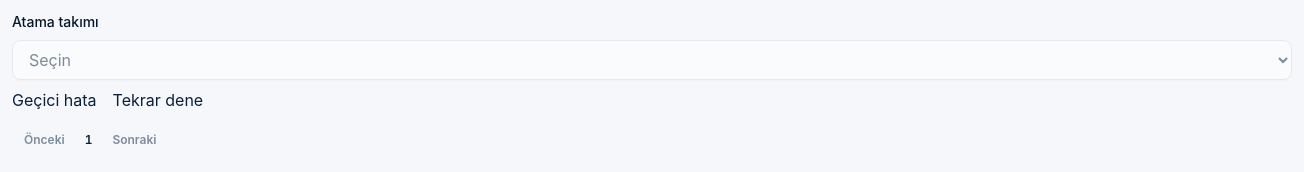
Test case: bounded assignment options › disables failed options, supports retry and shows an empty page explicitly
expect the dropdown is disabled: met, box [12,40,1292,80]
expect the message shows "Geçici hata": met, box [12,90,96,110]
Click the button "Tekrar dene" at {"x": 158, "y": 100}, box [96,80,219,120]
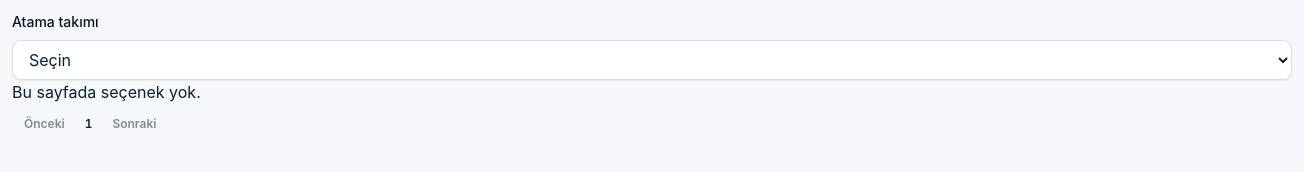
expect the button with aria-label "Sonraki Atama takımı seçenekleri" is disabled: met, box [100,108,168,140]
expect the text "Bu sayfada seçenek yok." is shown: met, box [12,82,201,102]
